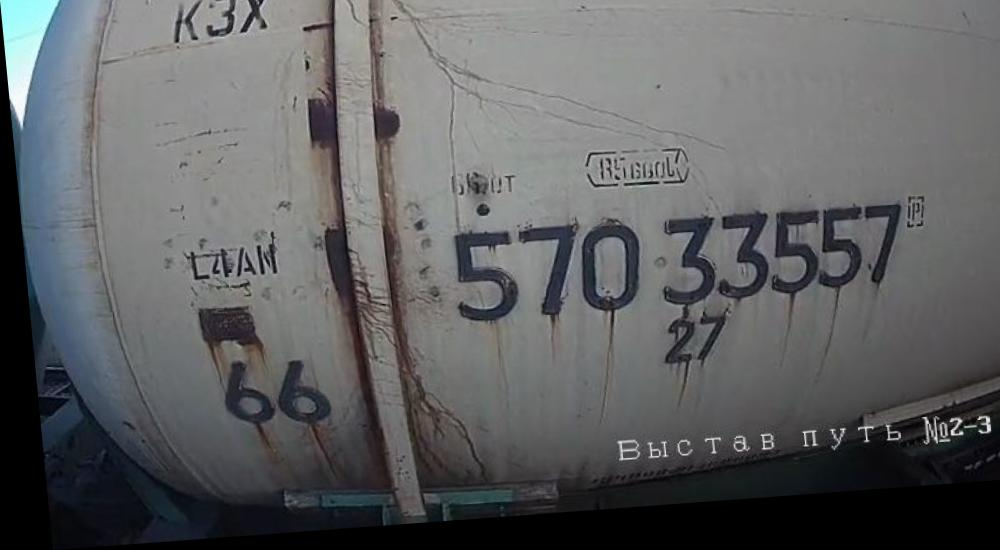Wagon-number: (440, 206, 906, 339)
